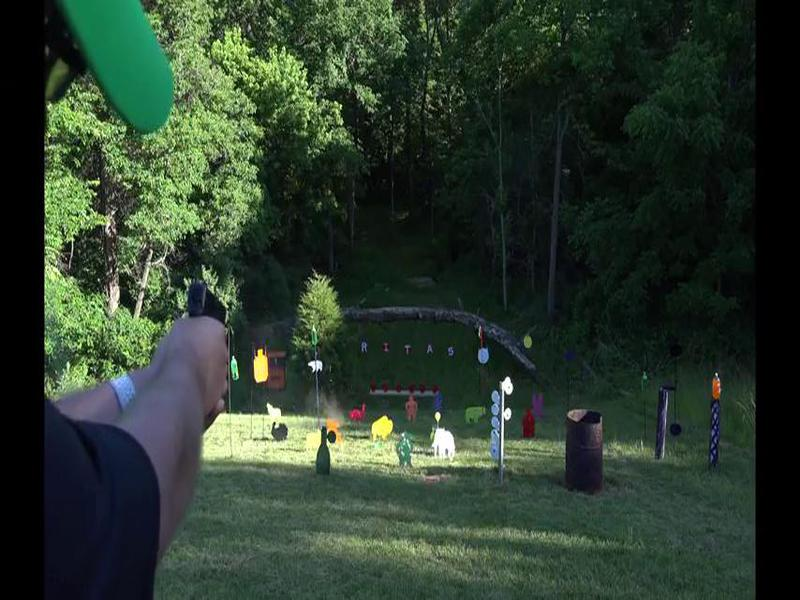Pistola: (184, 287, 246, 332)
